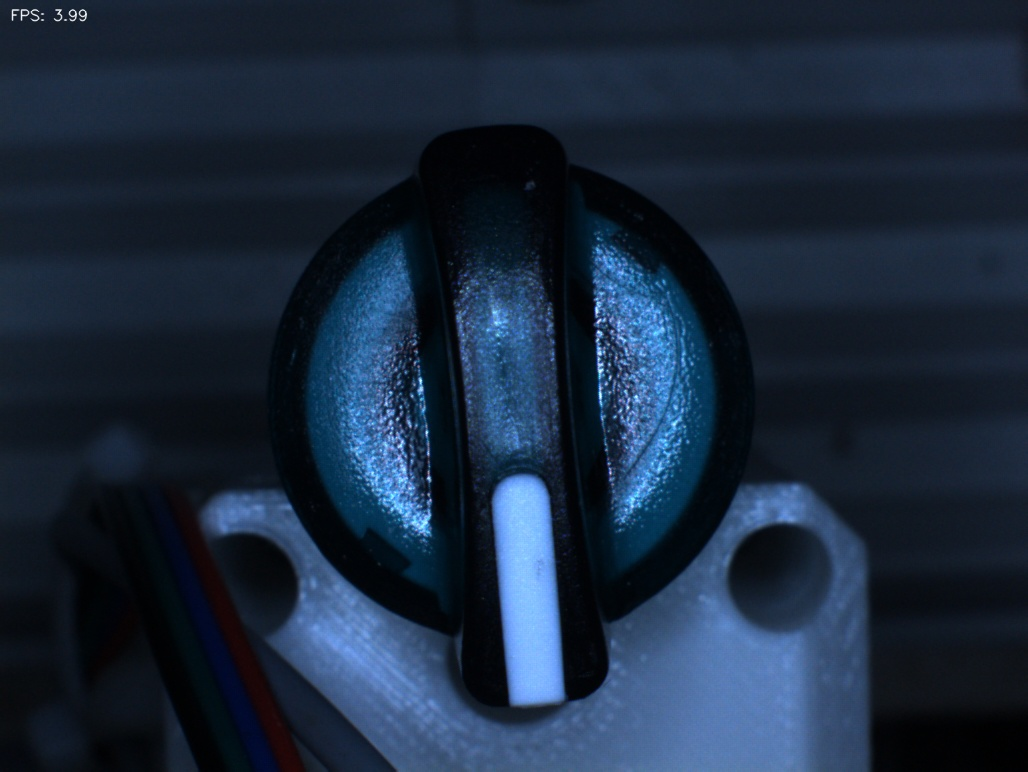PointNoir: (511, 540, 565, 602)
